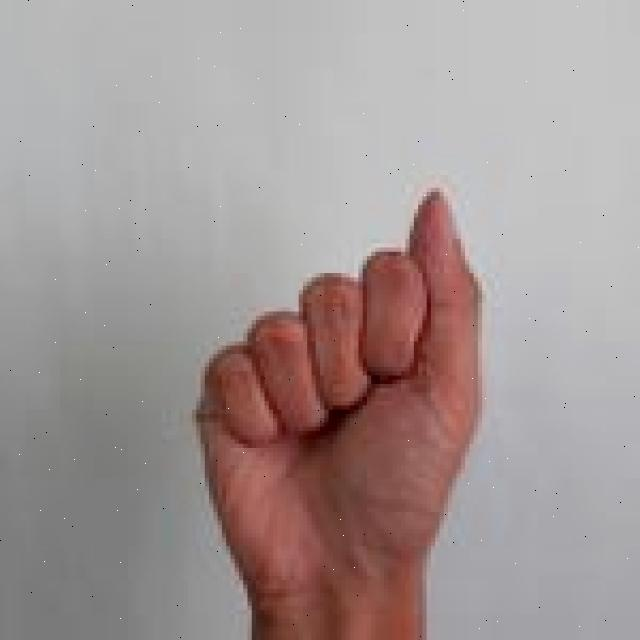A: (188, 182, 495, 640)
